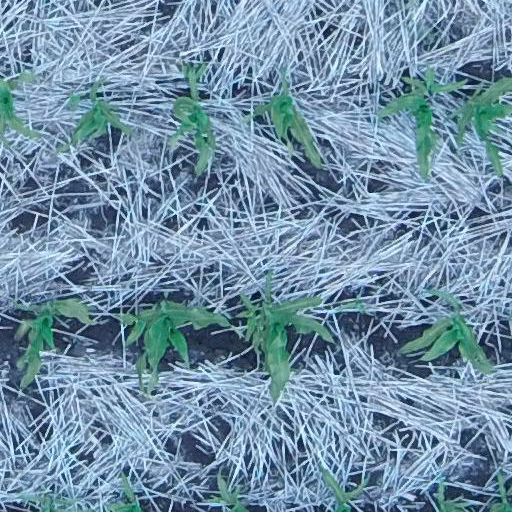planta: (240, 270, 333, 399), (377, 62, 469, 179), (118, 300, 228, 393), (397, 286, 495, 374), (11, 297, 93, 386), (244, 76, 324, 166), (56, 79, 140, 152), (169, 62, 219, 173), (320, 467, 368, 511), (208, 465, 249, 511)
